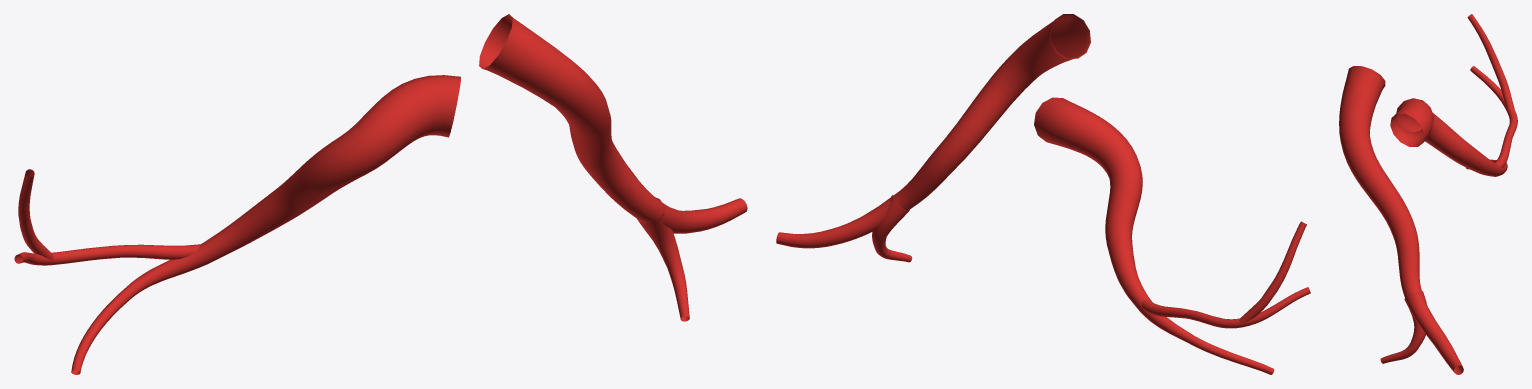
The model's file is circulatorio-middle-genicular-artery-r.glb.
3 views of the same model, side by side, from view 1: azimuth 30°, elevation 25°; view 2: azimuth 150°, elevation 25°; view 3: azimuth 270°, elevation 25° (orthographic). The views are drawn at different scales.
Visible parts, largest first — view 1: Middle genicular artery.r; view 2: Middle genicular artery.r; view 3: Middle genicular artery.r.
Boxes of the visible parts, x1,y1,x2,y2 form: Middle genicular artery.r: (14,14,747,374); Middle genicular artery.r: (776,14,1310,374); Middle genicular artery.r: (1339,14,1517,374).
Size of the model in its own units: 0.0532 by 0.0257 by 0.0175.
